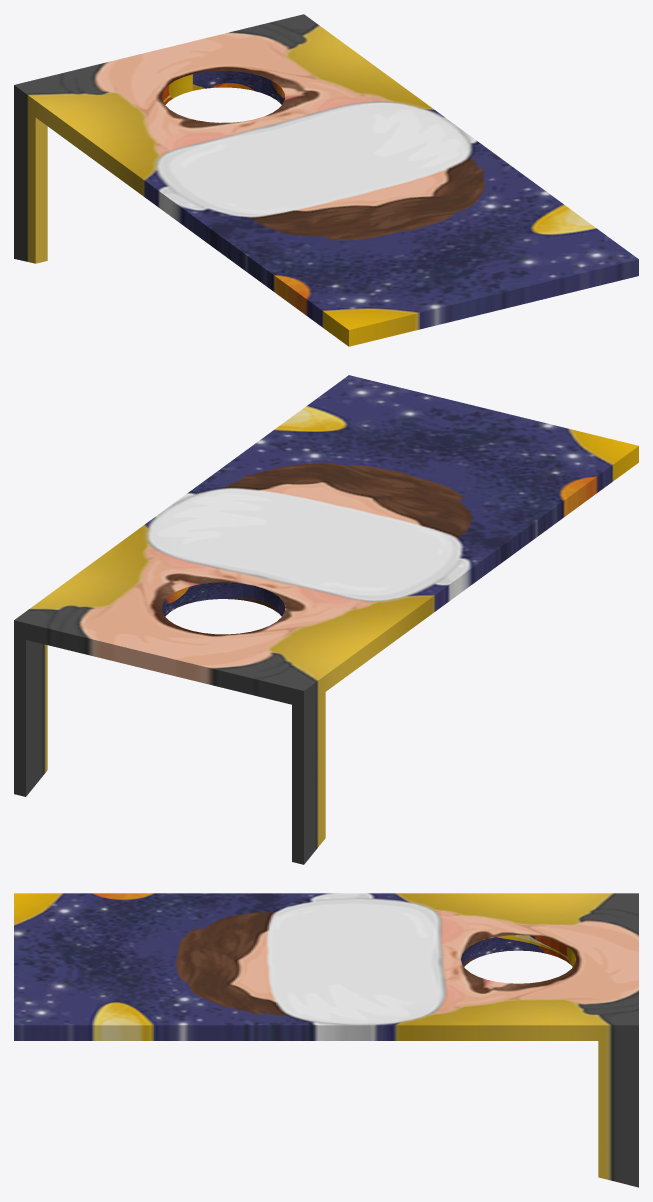
The model's file is cornhole.fbx.
3 views of the same model, one above another, from view 1: azimuth 30°, elevation 25°; view 2: azimuth 150°, elevation 25°; view 3: azimuth 270°, elevation 25° (orthographic). The views are drawn at different scales.
Visible parts, largest first — view 1: Cube; view 2: Cube; view 3: Cube.
Boxes of the visible parts, <box> form: Cube: <box>14,14,638,346</box>; Cube: <box>14,375,638,864</box>; Cube: <box>14,893,638,1187</box>.
Bounding box in the file's own units: 200 × 115 × 400.
1 material, 1 textured.
